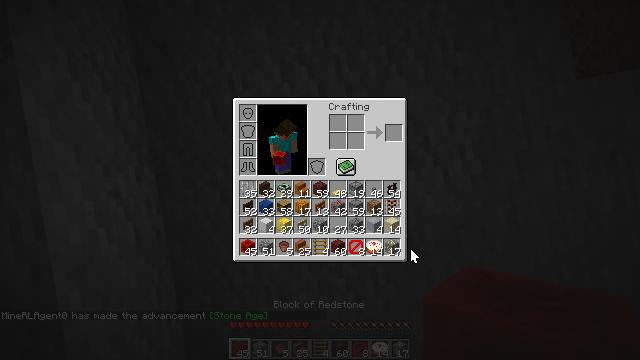cursor: (410, 248, 420, 264)
